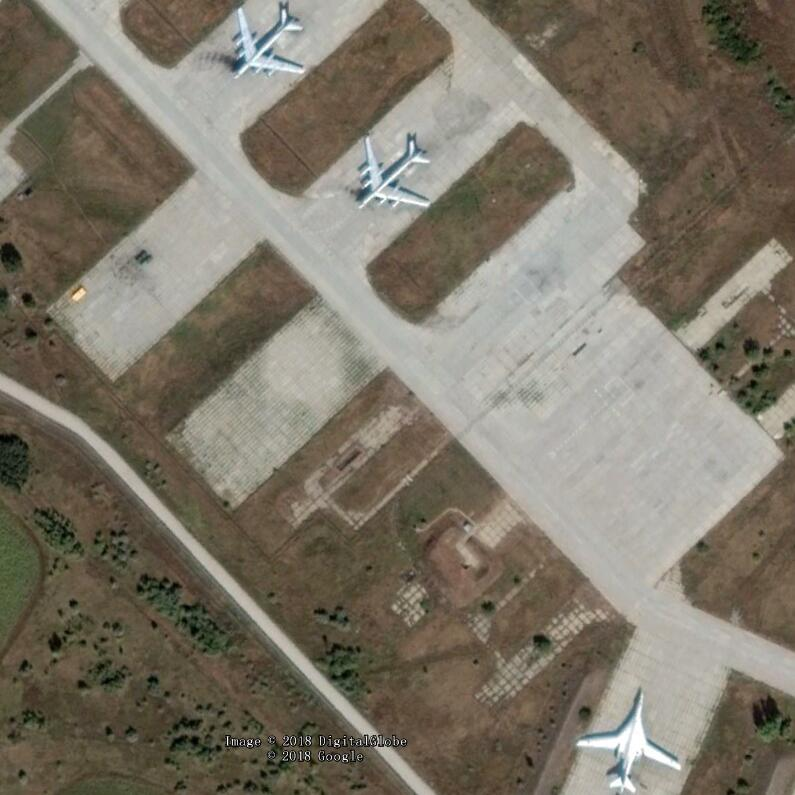A17: (356, 134, 432, 215), (230, 4, 309, 79)
A6: (575, 686, 684, 795)
